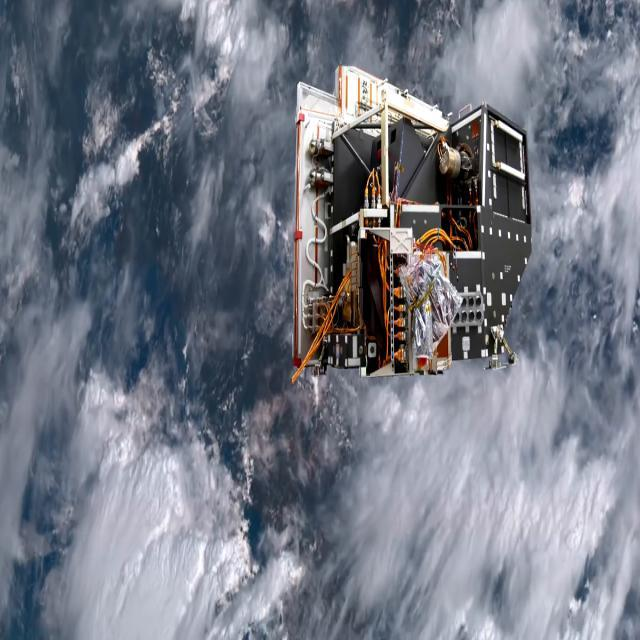sat: (287, 50, 545, 400)
